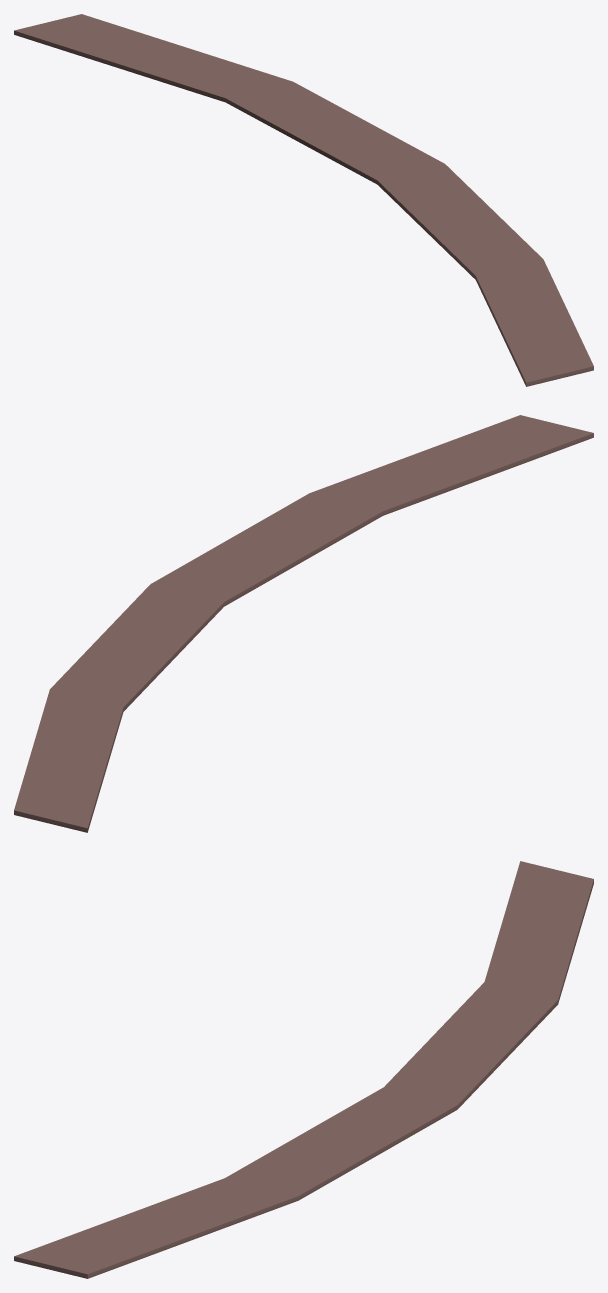
Rendered from WE02_Path.fbx.
The picture shows the model from 3 angles, top to bottom: view 1: azimuth 30°, elevation 25°; view 2: azimuth 150°, elevation 25°; view 3: azimuth 330°, elevation 25°; orthographic projection. The views are drawn at different scales.
Visible parts, largest first — view 1: Terrain__ID_22124_:pCube1; view 2: Terrain__ID_22124_:pCube1; view 3: Terrain__ID_22124_:pCube1.
Boxes of the visible parts, bbox=[...] form: Terrain__ID_22124_:pCube1: bbox=[14, 14, 593, 386]; Terrain__ID_22124_:pCube1: bbox=[14, 415, 593, 832]; Terrain__ID_22124_:pCube1: bbox=[14, 861, 593, 1278].
Bounding box in the file's own units: 5.29 × 0.1145 × 23.98.
